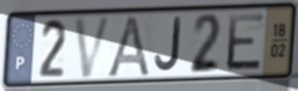2: (190, 12, 224, 76), (38, 18, 69, 80)
A: (103, 13, 152, 79)
E: (225, 11, 267, 73)
J: (153, 15, 184, 74)
V: (72, 14, 114, 81)
